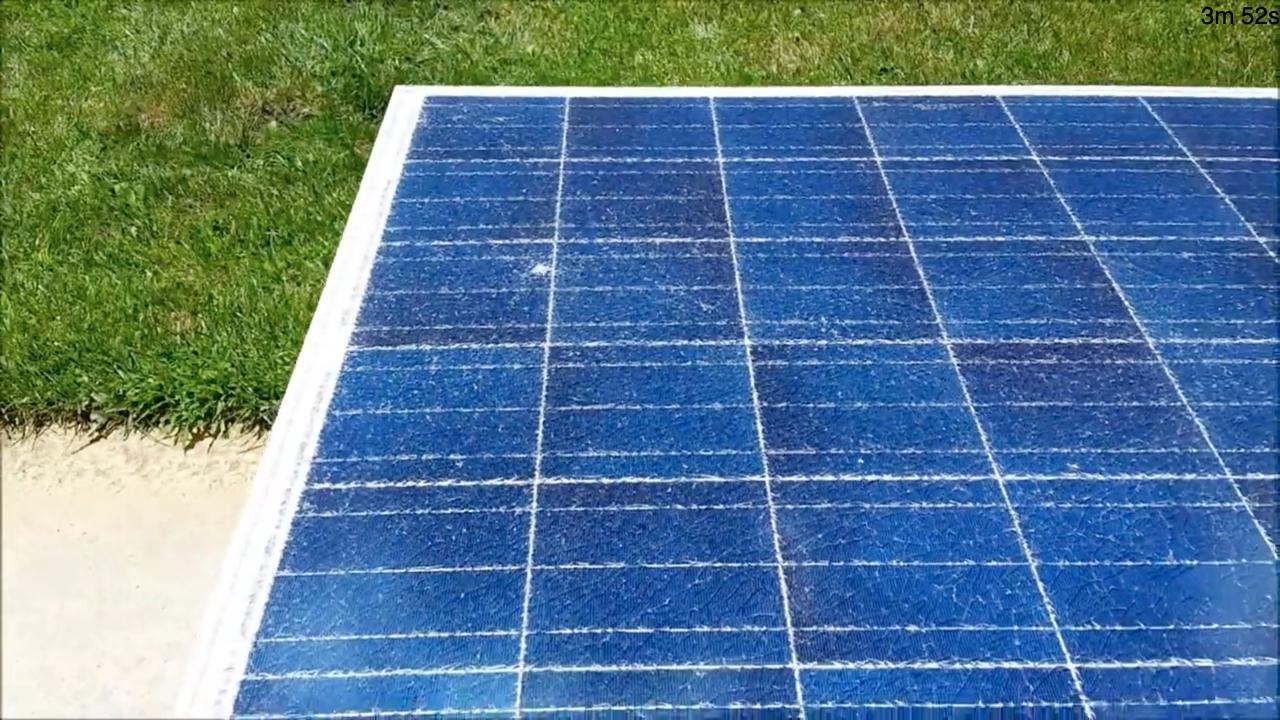Crack: (485, 225, 606, 319)
